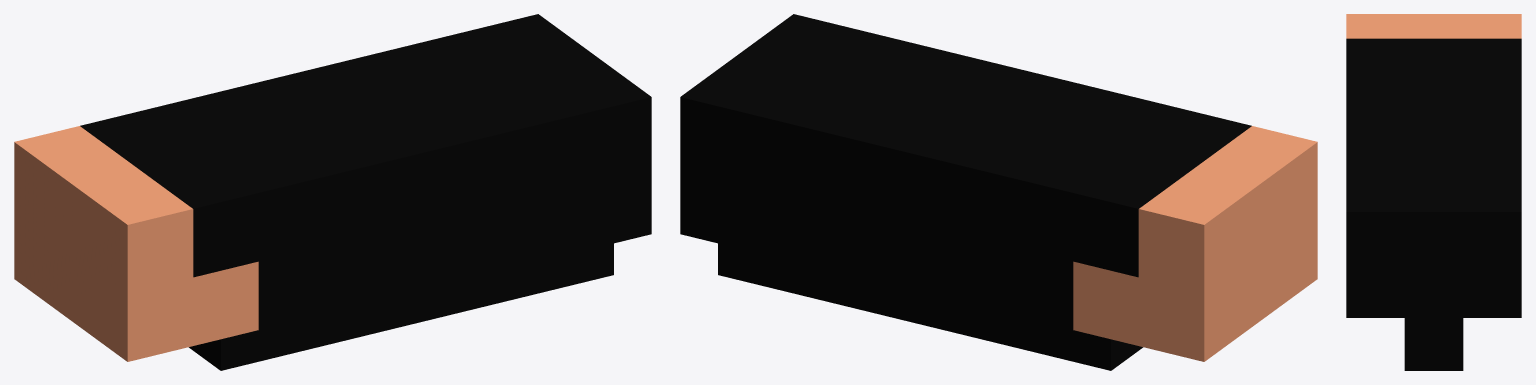
Rendered from umeyamadaichi-2.obj.
3 renders of one model, left to right at view 1: azimuth 30°, elevation 25°; view 2: azimuth 150°, elevation 25°; view 3: azimuth 270°, elevation 25°, orthographic. The views are drawn at different scales.
Size of the model in its own units: 0.8 by 0.3 by 0.3.
1 material, 1 textured.
